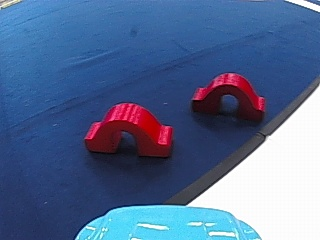bridge: (80, 98, 180, 157), (191, 68, 269, 121)
